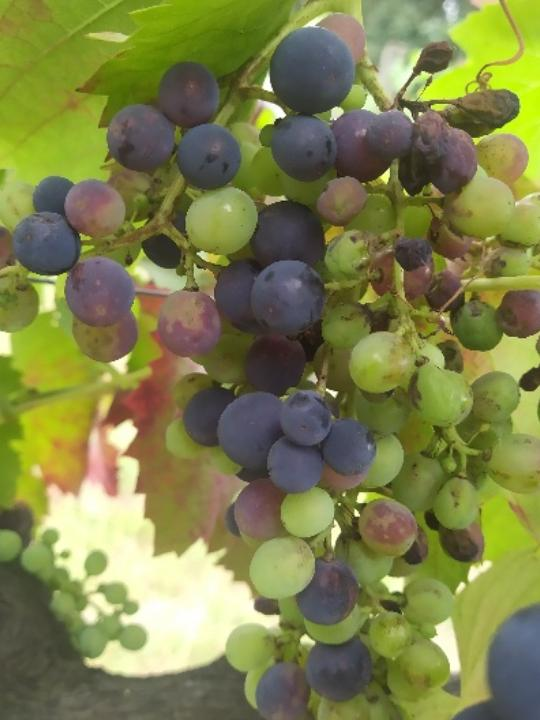grape: (0, 6, 540, 720)
